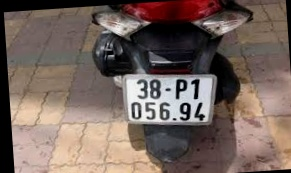Bien-so: (123, 70, 219, 128)
